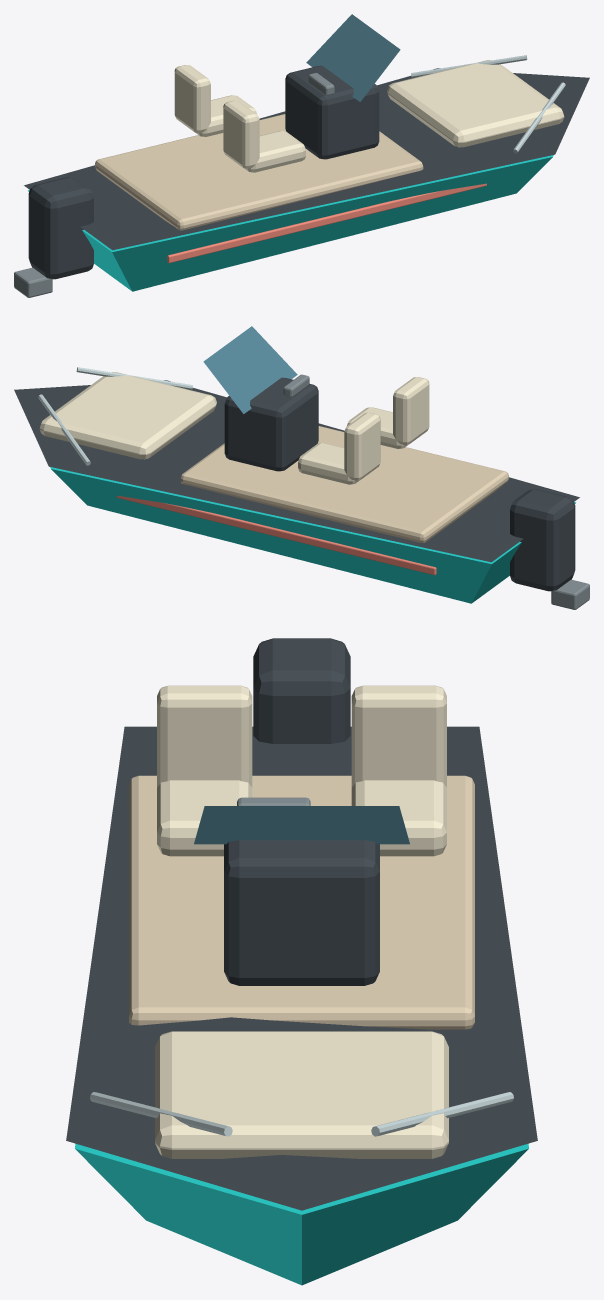
File: Boat.fbx
3 renders of one model, top to bottom at view 1: azimuth 30°, elevation 25°; view 2: azimuth 150°, elevation 25°; view 3: azimuth 270°, elevation 25°, orthographic. The views are drawn at different scales.
Visible parts, largest first — view 1: Boat; view 2: Boat; view 3: Boat.
Boxes of the visible parts, x1,y1,x2,y2 form: Boat: [14, 14, 589, 297]; Boat: [14, 326, 589, 609]; Boat: [66, 638, 537, 1285].
Bounding box in the file's own units: 608 × 179 × 218.
